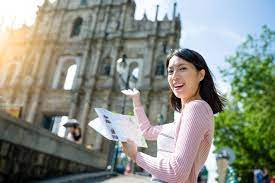person: (120, 46, 223, 183)
